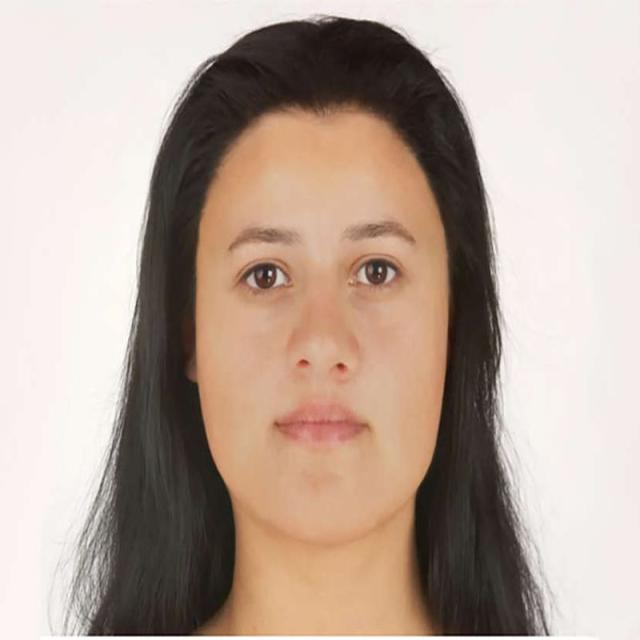mobile_phonerotation: (49, 13, 570, 636)
